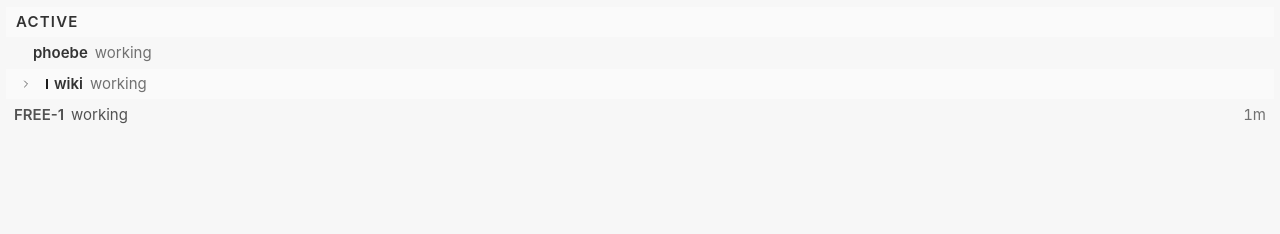
it: WIKI-235 runs sidebar › keeps owned-worker unread attention visible while its group is collapsed
Expected: the button "wiki working" is shown, x1=46 y1=69 x2=1274 y2=99
Expected: the text "WIKI-WORK" is not shown
Step 1. Click the button named "Expand wiki workers" → (26, 84), box x1=6 y1=69 x2=46 y2=99
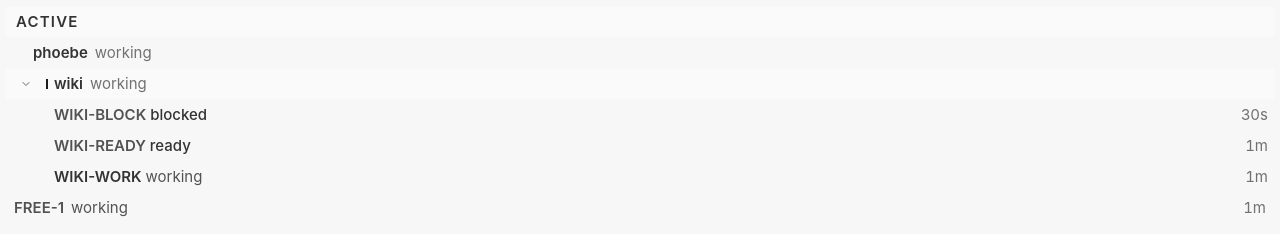
Now the button "WIKI-WORK working 1m" is shown, box x1=46 y1=162 x2=1274 y2=192
